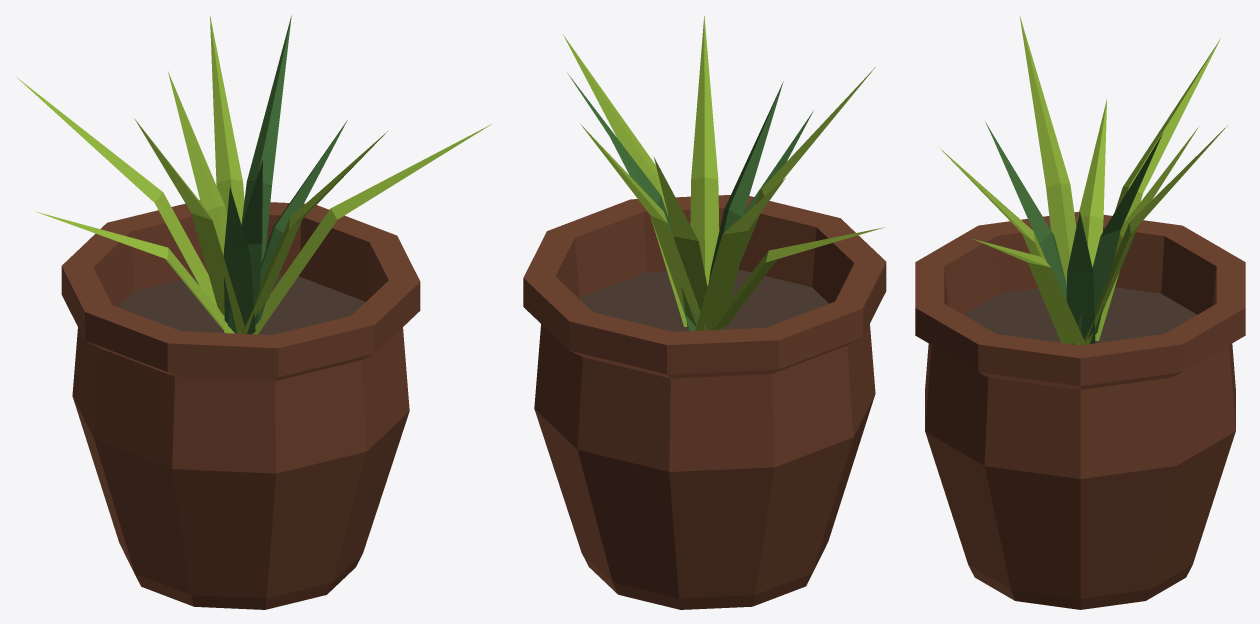
File: SM_Street_Pot_Glazed_M_Spiky_01.gltf
3 views of the same model, side by side, from view 1: azimuth 30°, elevation 25°; view 2: azimuth 150°, elevation 25°; view 3: azimuth 270°, elevation 25° (orthographic). The views are drawn at different scales.
Parts seen in each view (by area): view 1: SM_Street_Pot_Glazed_M_Spiky_01; view 2: SM_Street_Pot_Glazed_M_Spiky_01; view 3: SM_Street_Pot_Glazed_M_Spiky_01.
Part boxes in pixels (x1,y1,x2,y2): SM_Street_Pot_Glazed_M_Spiky_01: (16,15,491,609); SM_Street_Pot_Glazed_M_Spiky_01: (523,16,886,609); SM_Street_Pot_Glazed_M_Spiky_01: (915,15,1245,609).
Bounding box in the file's own units: 0.4251 × 0.5219 × 0.3234.
1 material, 1 textured.
